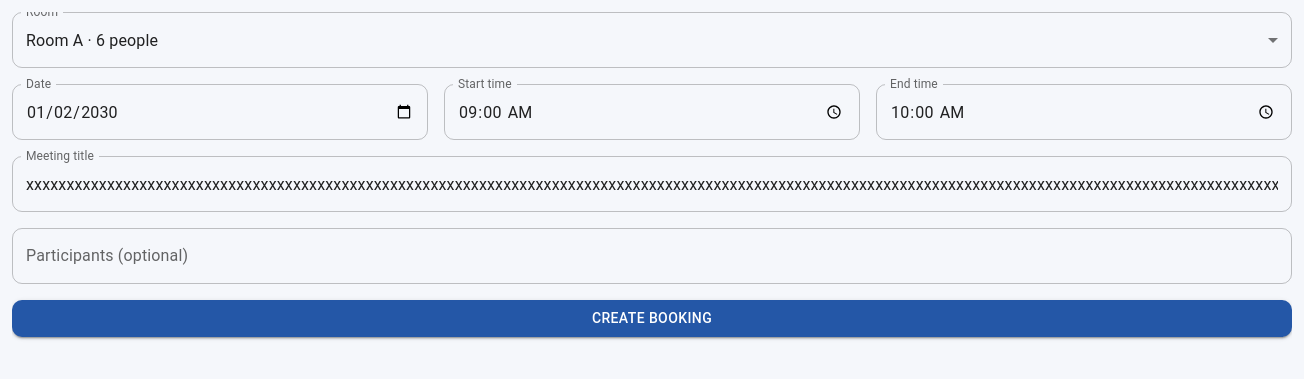
Test case: BookingForm › rejects titles longer than the backend's 200-character limit
The image size is (1304, 379).
Click the button "Create booking".
click(652, 318)  # box [12,300,1292,336]
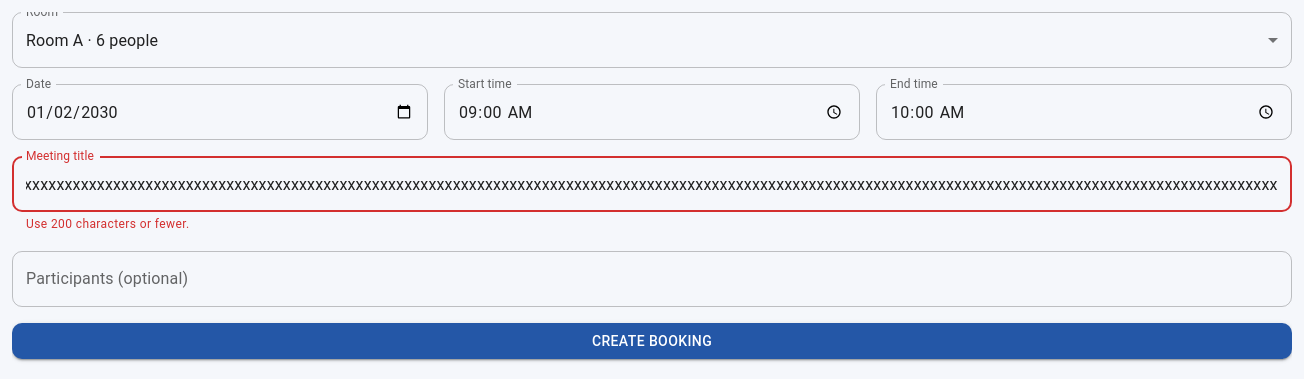
Now the text "Use 200 characters or fewer." is shown, box [26,217,190,231]
